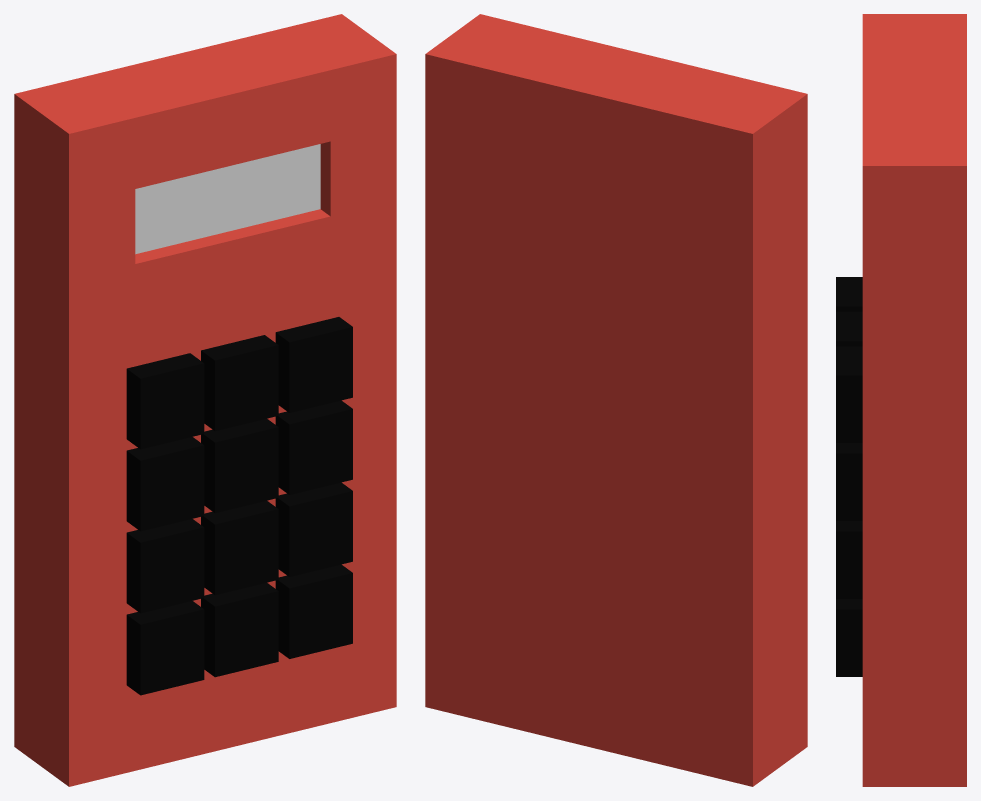
Rendered from Bomb_TypingKin.fbx.
The picture shows the model from 3 angles, left to right: view 1: azimuth 30°, elevation 25°; view 2: azimuth 150°, elevation 25°; view 3: azimuth 270°, elevation 25°; orthographic projection. The views are drawn at different scales.
Visible parts, largest first — view 1: Cube; view 2: Cube; view 3: Cube.
Boxes of the visible parts, left/top/right/bottom form: Cube: left=14, top=14, right=396, bottom=786; Cube: left=425, top=14, right=807, bottom=786; Cube: left=836, top=14, right=966, bottom=786.
Bounding box in the file's own units: 144 × 274 × 52.25.
